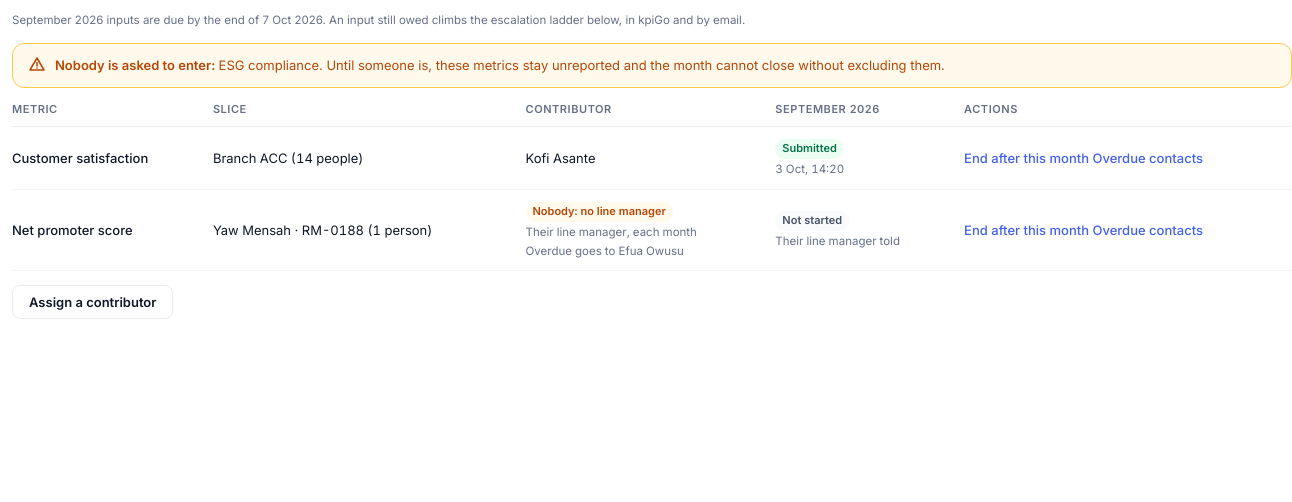
it: manual input assignments › shows how far each slice has climbed and who hears when it is overdue
Expected: the text "Their line manager told" is shown, [775,234,900,248]
Expected: the text "Overdue goes to Efua Owusu" is shown, [526,244,684,258]
Click the button named "Who hears when Net promoter score for Yaw Mensah · RM-0188 is overdue": [1148, 230] box [1092,222,1203,238]
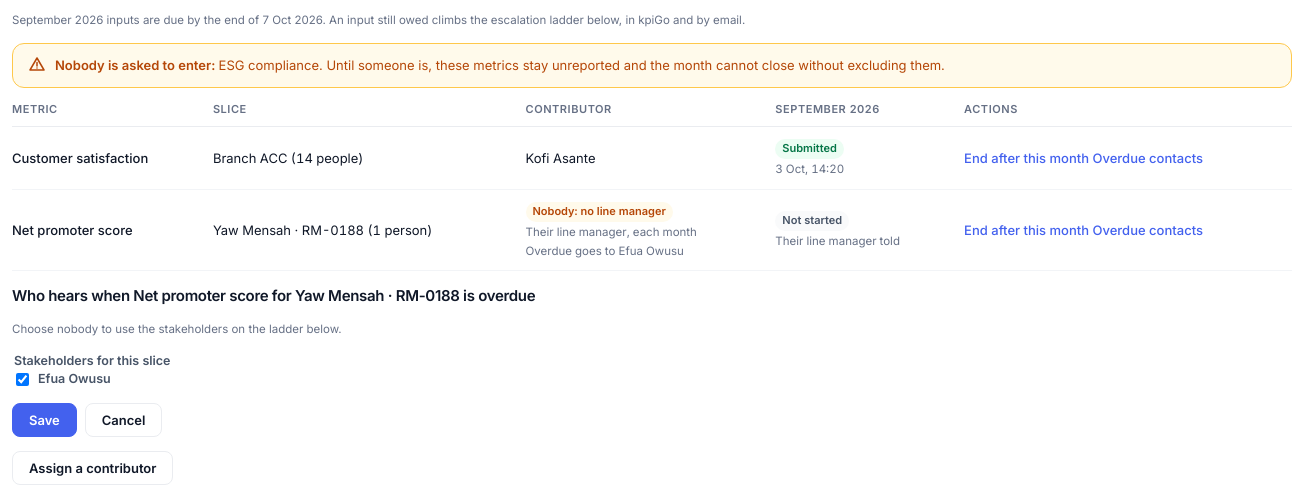
Result: the checkbox labelled "Efua Owusu" is checked at [16,373,29,386]
